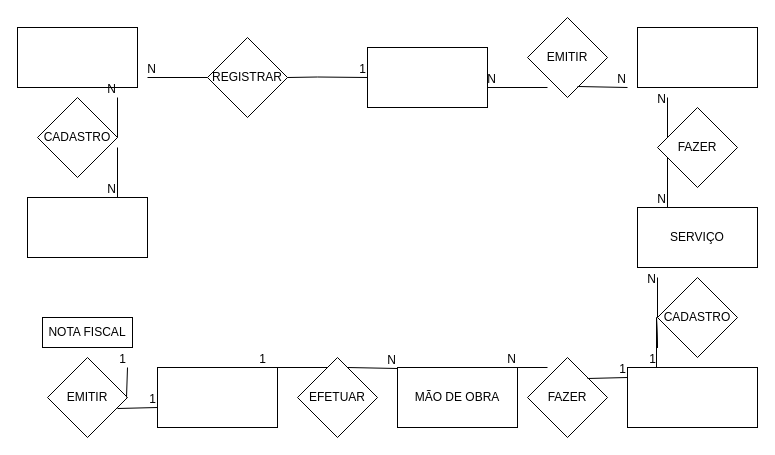
The diagram is 775 pixels wide and 455 high, and some of its shapes have lost their labels. Each missing label, with the box of its shape:
CARRO: (26, 196, 148, 258)
CLIENTE: (16, 26, 138, 88)
FUNCIONÁRIO: (626, 366, 758, 428)
ORÇAMENTO: (366, 46, 488, 108)
PAGAMENTO: (156, 366, 278, 428)
PEÇAS: (636, 26, 758, 88)
